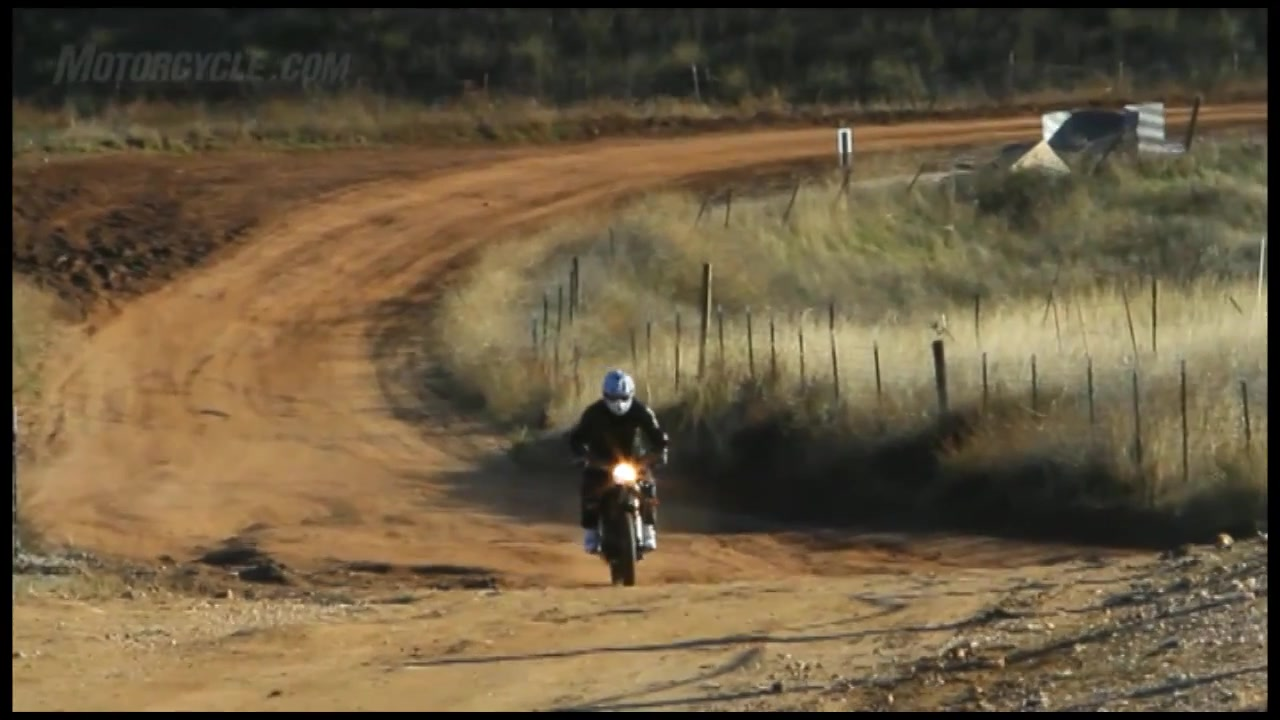motorbike: (567, 445, 675, 592)
